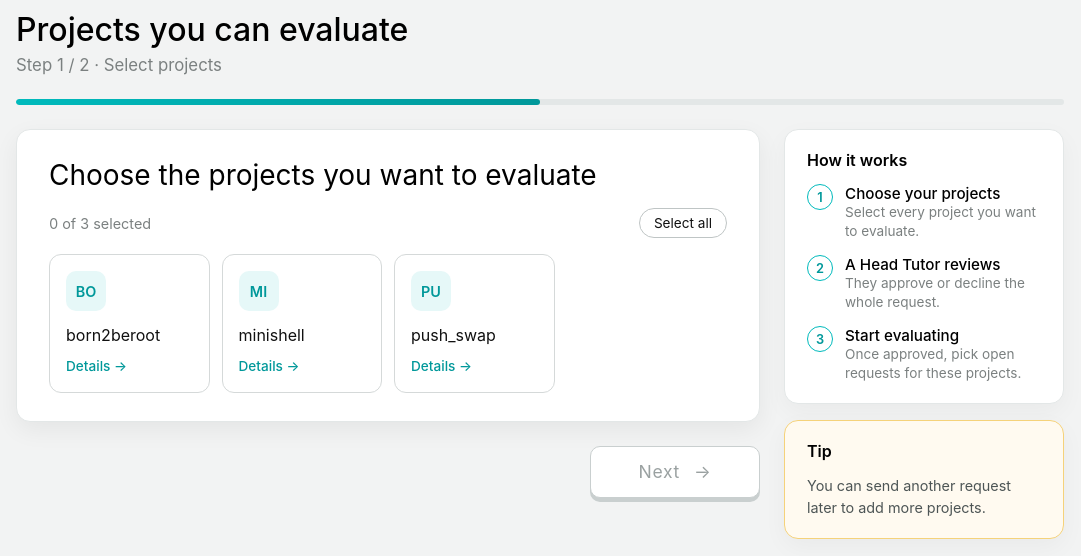
Test: EligibilityRequestPage › starts on step 1 with Next disabled until a project is chosen
The width and height of the screenshot is (1081, 556).
Expected: the text "Step 1 / 2 · Select projects" is shown, x1=16 y1=55 x2=222 y2=75
Expected: the button "Next →" is disabled, x1=590 y1=446 x2=760 y2=498
Click the checkbox labelled "push_swap": [453, 308] box x1=411 y1=271 x2=496 y2=345
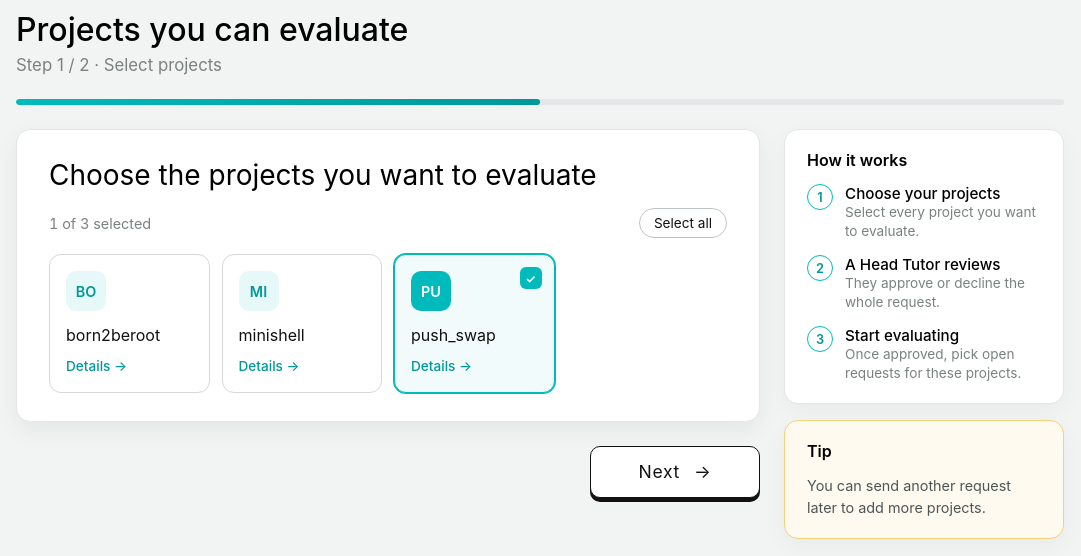
Now the button "Next →" is enabled, box x1=590 y1=446 x2=760 y2=498
